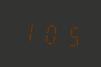five: (61, 20, 81, 49)
one: (18, 17, 38, 45)
zero: (40, 19, 60, 47)
